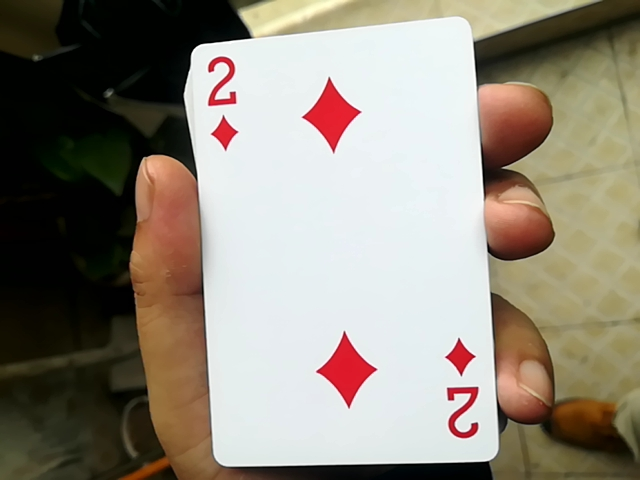fk 2: (172, 10, 495, 464)
